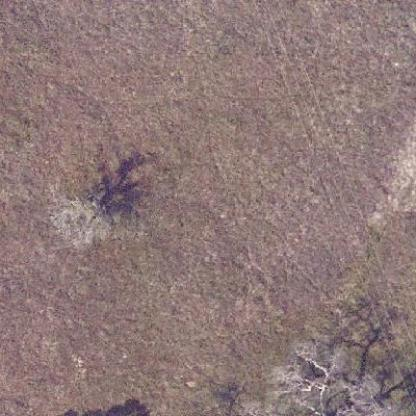tree-top: (53, 168, 128, 244)
